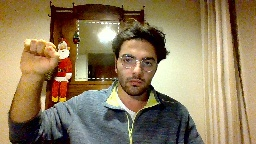Pugno: (18, 35, 60, 80)
